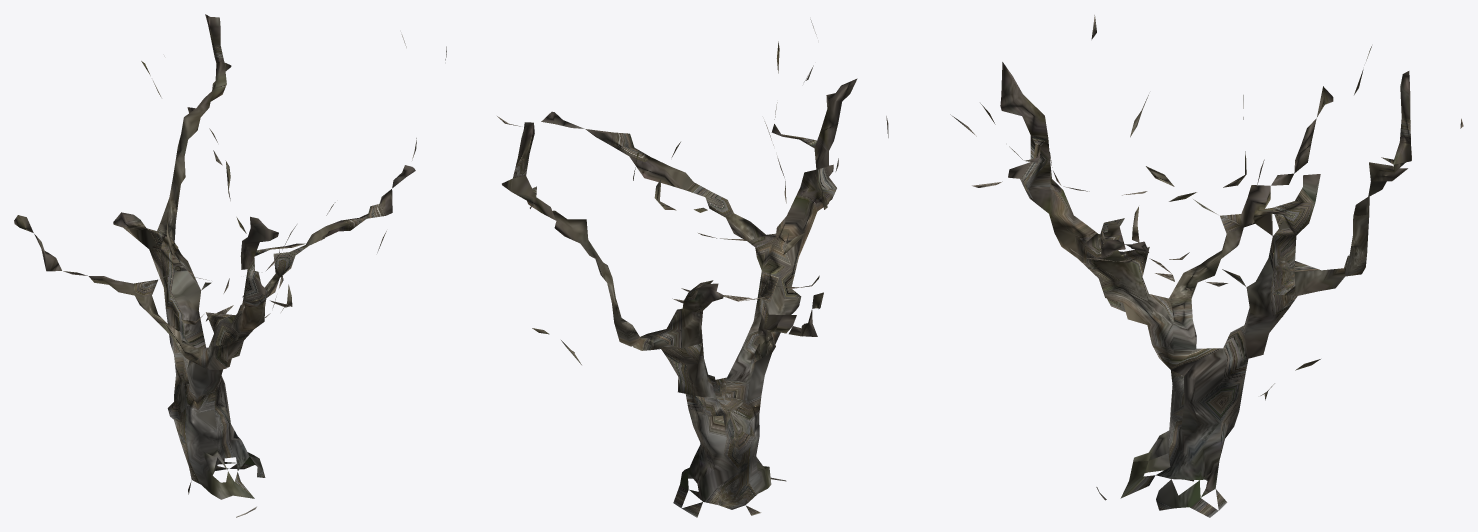
File: island_tree_01_L1_madera.glb
3 renders of one model, left to right at view 1: azimuth 30°, elevation 25°; view 2: azimuth 150°, elevation 25°; view 3: azimuth 270°, elevation 25°, orthographic. The views are drawn at different scales.
Parts seen in each view (by area): view 1: island_tree_01_LOD0; view 2: island_tree_01_LOD0; view 3: island_tree_01_LOD0.
Part boxes in pixels (x1=…): island_tree_01_LOD0: x1=14, y1=14, x2=416, y2=517; island_tree_01_LOD0: x1=445, y1=19, x2=857, y2=517; island_tree_01_LOD0: x1=886, y1=15, x2=1463, y2=517.
Size of the model in its own units: 3.48 by 3.54 by 3.9.
Materials: 2 (2 with a texture image).
